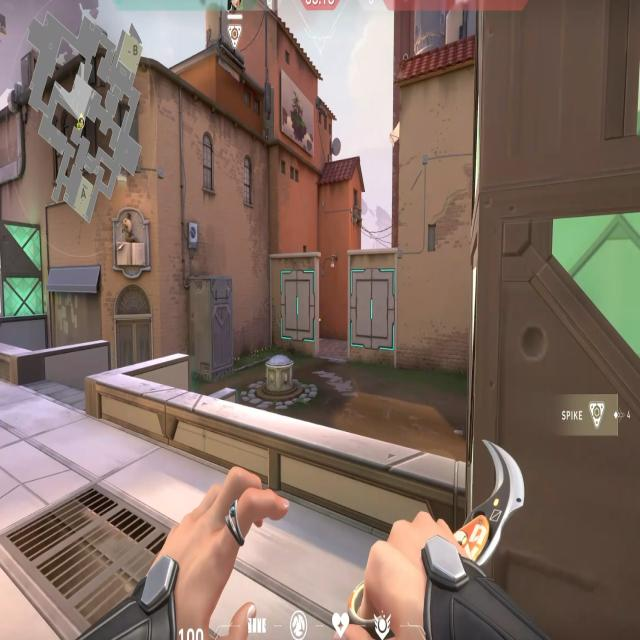Mid_Wall: (348, 248, 398, 364), (268, 254, 318, 352)
